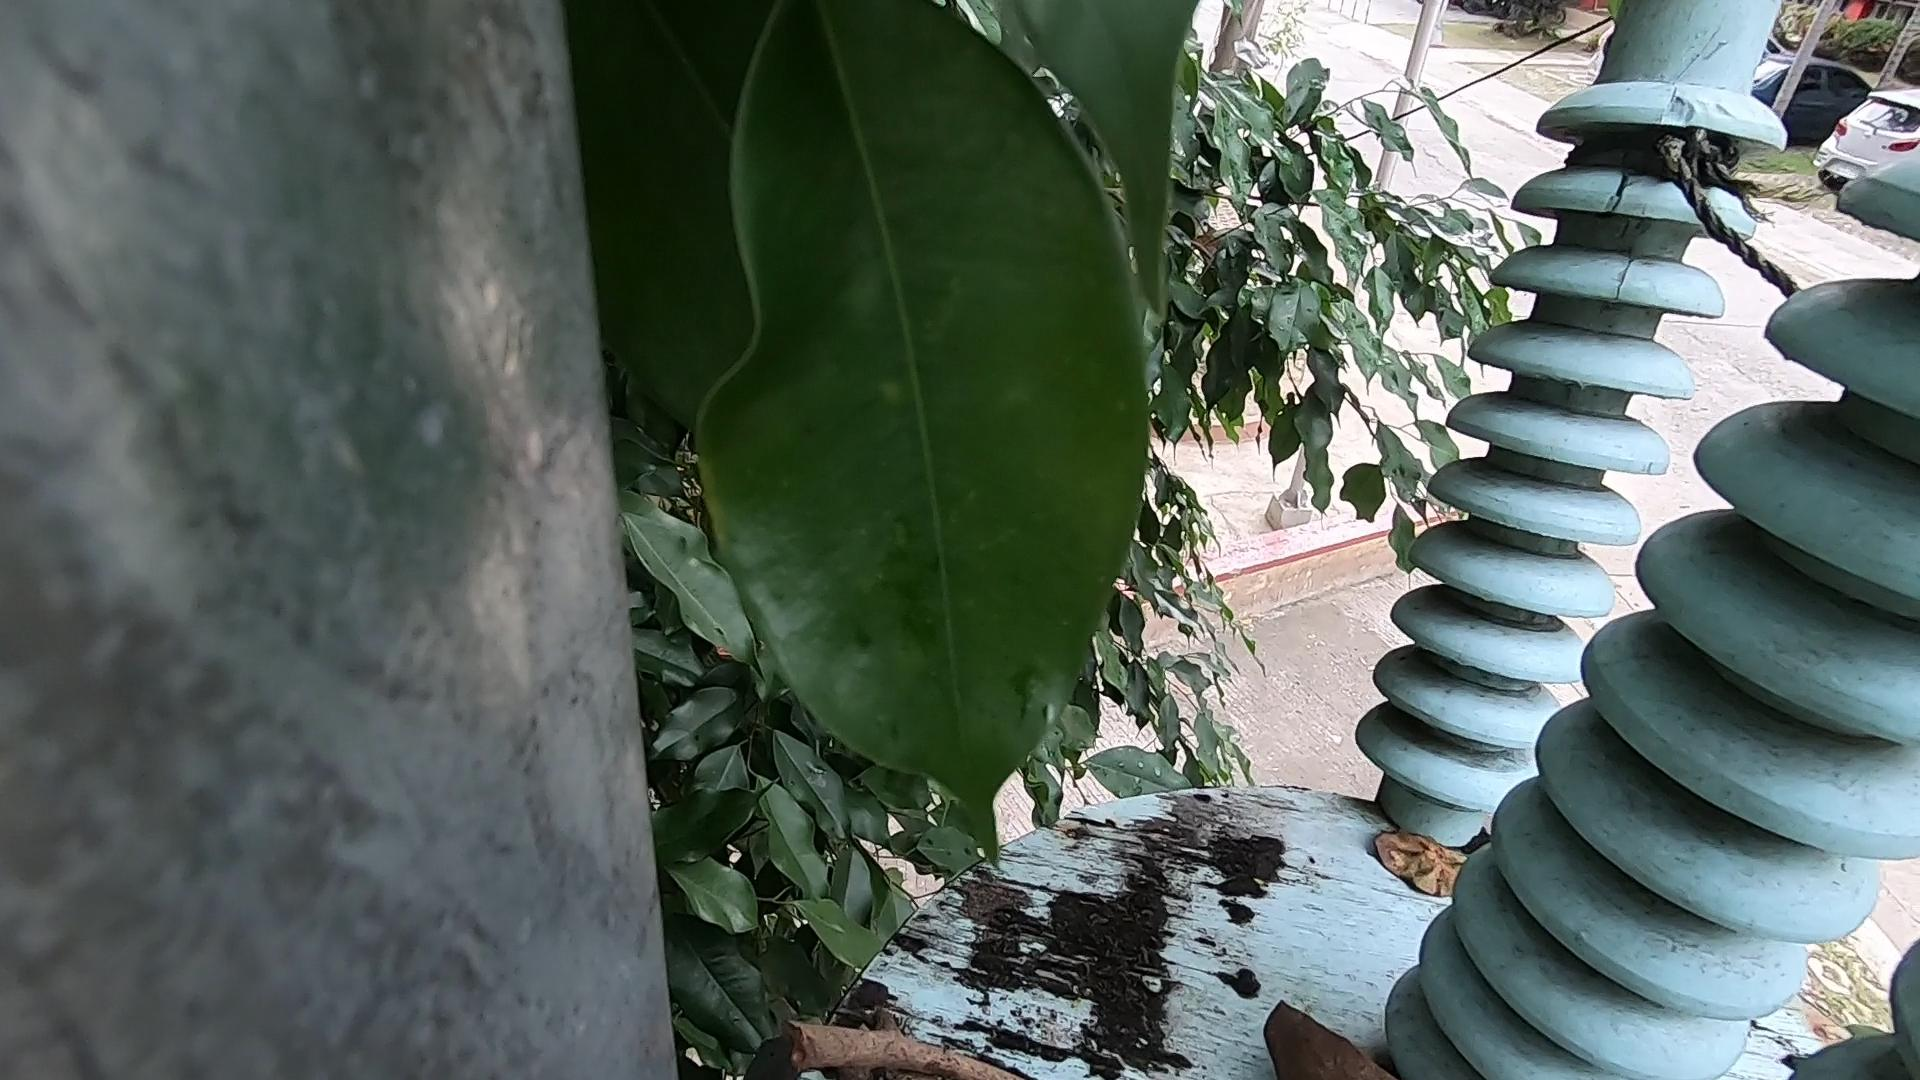branch with leaves: (779, 982, 978, 1080)
leaf: (1375, 793, 1499, 916)
mahogany fruit: (1224, 976, 1410, 1080)
